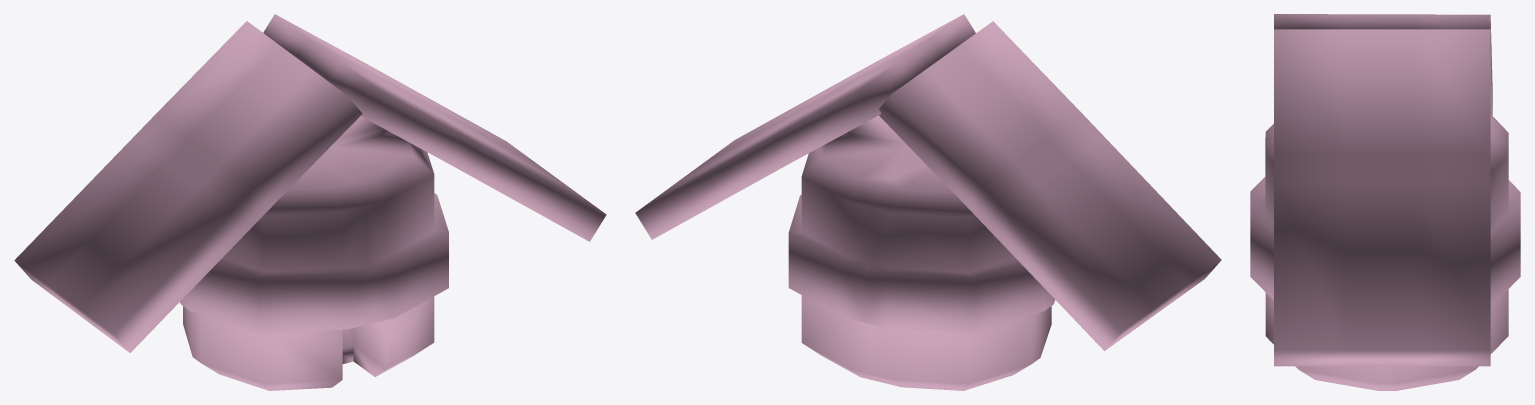
The model's file is Marshmallowmallow House.obj.
3 views of the same model, side by side, from view 1: azimuth 30°, elevation 25°; view 2: azimuth 150°, elevation 25°; view 3: azimuth 270°, elevation 25° (orthographic). The views are drawn at different scales.
Visible parts, largest first — view 1: Marshmallow_House; view 2: Marshmallow_House; view 3: Marshmallow_House.
Part boxes in pixels (<box>): Marshmallow_House: <box>14,14,606,390</box>; Marshmallow_House: <box>635,14,1221,390</box>; Marshmallow_House: <box>1250,14,1520,390</box>.
Size of the model in its own units: 56.39 by 32.45 by 24.84.
